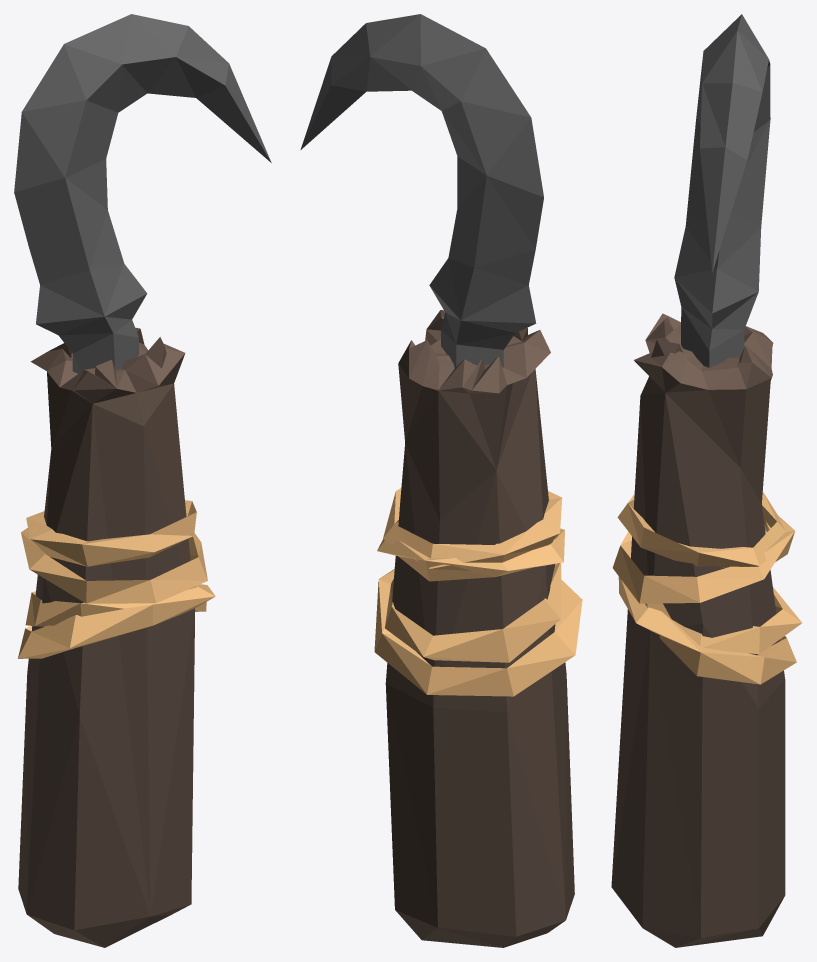
Rendered from Tool_002.fbx.
3 renders of one model, left to right at view 1: azimuth 30°, elevation 25°; view 2: azimuth 150°, elevation 25°; view 3: azimuth 270°, elevation 25°, orthographic. The views are drawn at different scales.
Parts seen in each view (by area): view 1: Tool_002; view 2: Tool_002; view 3: Tool_002.
Boxes of the visible parts, box(x1,y1,x2,y2) form: Tool_002: box(14, 14, 271, 947); Tool_002: box(300, 14, 582, 947); Tool_002: box(611, 14, 801, 947).
Size of the model in its own units: 0.063 by 0.2043 by 0.0388.
